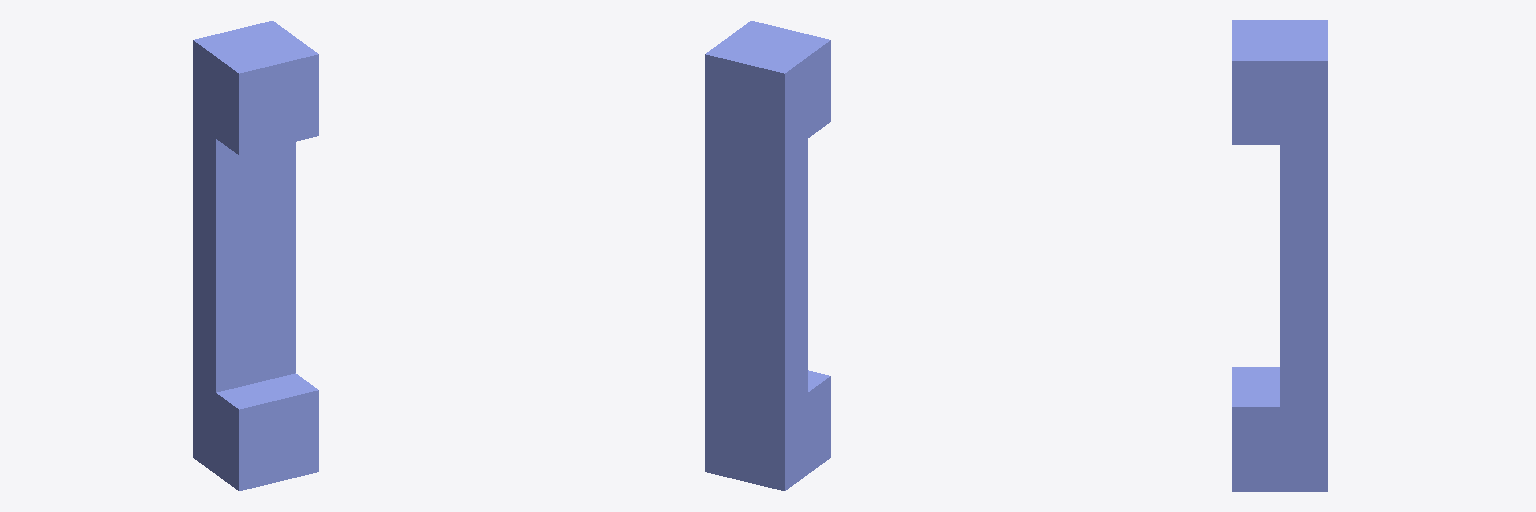
URDF robot description (obj_2):
<robot name="obj_2" version="1.0">
  <link name="obj_2_link">
    <collision name="obj_2_collision_1">
      <origin rpy="1.57080 0.00000 0.00000" xyz="-1.75064 3.00249 0.36746"/>
      <geometry>
        <mesh filename="../meshes/obj/Cube.005.obj" scale="1.00000 0.98000 1.00000"/>
      </geometry>
    </collision>
    <collision name="obj_2_collision_2">
      <origin rpy="1.57080 0.00000 0.00000" xyz="-1.75107 3.00249 3.38262"/>
      <geometry>
        <mesh filename="../meshes/obj/Cube.006.obj" scale="1.00000 0.98000 1.00000"/>
      </geometry>
    </collision>
    <collision name="obj_2_collision_3">
      <origin rpy="1.57080 0.00000 0.00000" xyz="-1.75042 3.19009 1.87370"/>
      <geometry>
        <mesh filename="../meshes/obj/Cube.007.obj" scale="2.00000 6.08000 1.00000"/>
      </geometry>
    </collision>
    <inertial>
      <inertia ixx="6.65506" ixy="0.00000" ixz="-0.00000" iyy="0.48424" iyz="0.00000" izz="6.58953"/>
      <origin rpy="0.00000 0.00000 0.00000" xyz="-1.75100 3.08500 1.87500"/>
      <mass value="5.00000"/>
    </inertial>
    <visual name="obj_2">
      <material name="turnaxis"/>
      <origin rpy="1.57080 0.00000 0.00000" xyz="-1.75100 3.08500 1.87500"/>
      <geometry>
        <mesh filename="../meshes/obj/luban-lock-sliding.001.obj" scale="0.05000 0.05000 0.05000"/>
      </geometry>
    </visual>
  </link>
  <material name="turnaxis">
    <color rgba="0.63922 0.70196 1.00000 1.00000"/>
  </material>
</robot>

--- Facts derived from the render (not from the file) ---
3 views of the same robot in one strip: view 1: azimuth 30°, elevation 25°; view 2: azimuth 150°, elevation 25°; view 3: azimuth 270°, elevation 25° (orthographic).
Robot: obj_2 — 1 links, 0 joints (none); root link obj_2_link; default pose: all joints at 0.
Visible links, largest first — view 1: obj_2_link; view 2: obj_2_link; view 3: obj_2_link.
Boxes of the visible links, x1,y1,x2,y2 form: obj_2_link: [193, 21, 318, 490]; obj_2_link: [705, 21, 830, 490]; obj_2_link: [1232, 20, 1327, 491].
Bounding box of the posed robot: 0.75 × 0.75 × 3.75 m (x, y, z).
Meshes: 1 distinct files referenced, 1 mesh visuals loaded (1 OBJ).